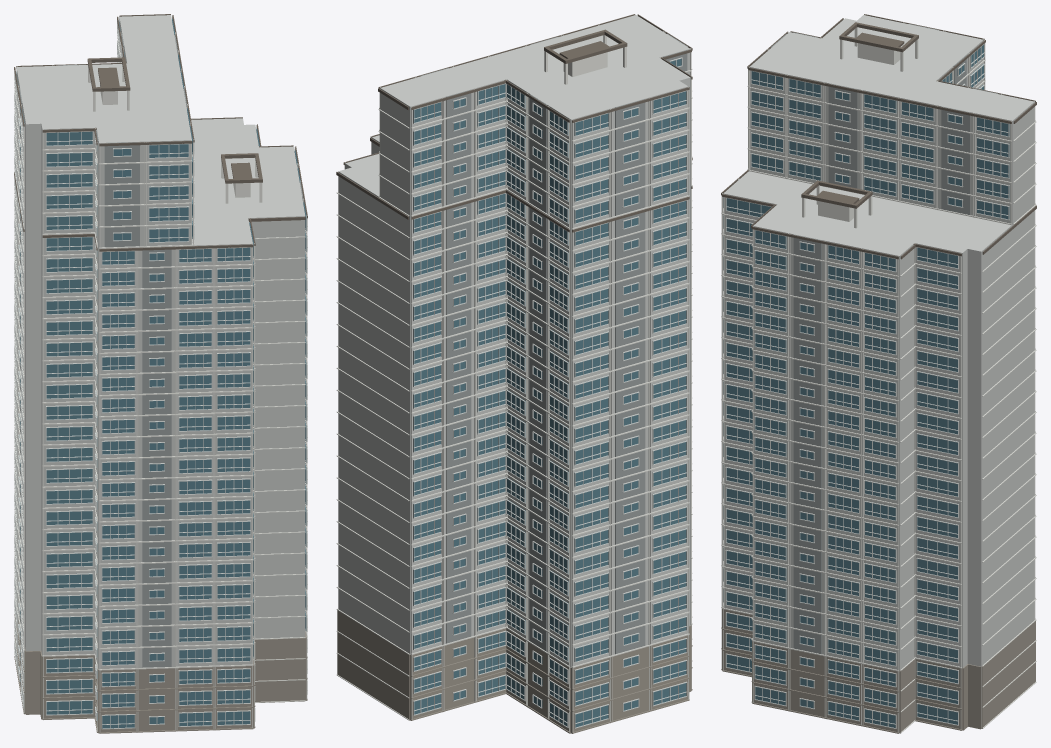
Rendered from bespoke-banpo-xi-112.glb.
3 views of the same model, side by side, from view 1: azimuth 30°, elevation 25°; view 2: azimuth 150°, elevation 25°; view 3: azimuth 270°, elevation 25° (orthographic). The views are drawn at different scales.
Parts seen in each view (by area): view 1: BX112_editable_BX112_pale_silver_limestone, BX112_editable_BX112_blue_grey_broad_glazing, BX112_editable_BX112_white_window_frames, BX112_editable_BX112_ivory_course_bands, BX112_editable_BX112_grey_service_core, BX112_editable_BX112_warm_ground_stone, BX112_editable_BX112_dark_coping; view 2: BX112_editable_BX112_pale_silver_limestone, BX112_editable_BX112_blue_grey_broad_glazing, BX112_editable_BX112_white_window_frames, BX112_editable_BX112_ivory_course_bands, BX112_editable_BX112_grey_service_core, BX112_editable_BX112_warm_ground_stone, BX112_editable_BX112_dark_coping; view 3: BX112_editable_BX112_pale_silver_limestone, BX112_editable_BX112_blue_grey_broad_glazing, BX112_editable_BX112_white_window_frames, BX112_editable_BX112_ivory_course_bands, BX112_editable_BX112_grey_service_core, BX112_editable_BX112_warm_ground_stone, BX112_editable_BX112_dark_coping.
Part boxes in pixels (left/top/right/bottom): BX112_editable_BX112_pale_silver_limestone: left=16, top=15, right=305, bottom=669; BX112_editable_BX112_blue_grey_broad_glazing: left=16, top=18, right=306, bottom=728; BX112_editable_BX112_white_window_frames: left=14, top=20, right=307, bottom=729; BX112_editable_BX112_ivory_course_bands: left=14, top=15, right=307, bottom=732; BX112_editable_BX112_grey_service_core: left=19, top=34, right=303, bottom=667; BX112_editable_BX112_warm_ground_stone: left=14, top=614, right=307, bottom=733; BX112_editable_BX112_dark_coping: left=14, top=14, right=307, bottom=251; BX112_editable_BX112_pale_silver_limestone: left=338, top=15, right=690, bottom=732; BX112_editable_BX112_blue_grey_broad_glazing: left=413, top=58, right=686, bottom=727; BX112_editable_BX112_white_window_frames: left=413, top=57, right=687, bottom=728; BX112_editable_BX112_ivory_course_bands: left=336, top=14, right=692, bottom=732; BX112_editable_BX112_grey_service_core: left=421, top=33, right=687, bottom=654; BX112_editable_BX112_warm_ground_stone: left=337, top=610, right=692, bottom=733; BX112_editable_BX112_dark_coping: left=336, top=14, right=692, bottom=232; BX112_editable_BX112_pale_silver_limestone: left=723, top=15, right=1034, bottom=732; BX112_editable_BX112_blue_grey_broad_glazing: left=723, top=45, right=1009, bottom=727; BX112_editable_BX112_white_window_frames: left=723, top=43, right=1009, bottom=728; BX112_editable_BX112_ivory_course_bands: left=721, top=14, right=1036, bottom=732; BX112_editable_BX112_grey_service_core: left=771, top=24, right=997, bottom=654; BX112_editable_BX112_warm_ground_stone: left=721, top=608, right=1035, bottom=733; BX112_editable_BX112_dark_coping: left=721, top=14, right=1036, bottom=259.
Bounding box in the file's own units: 39.22 × 79.3 × 37.6.
